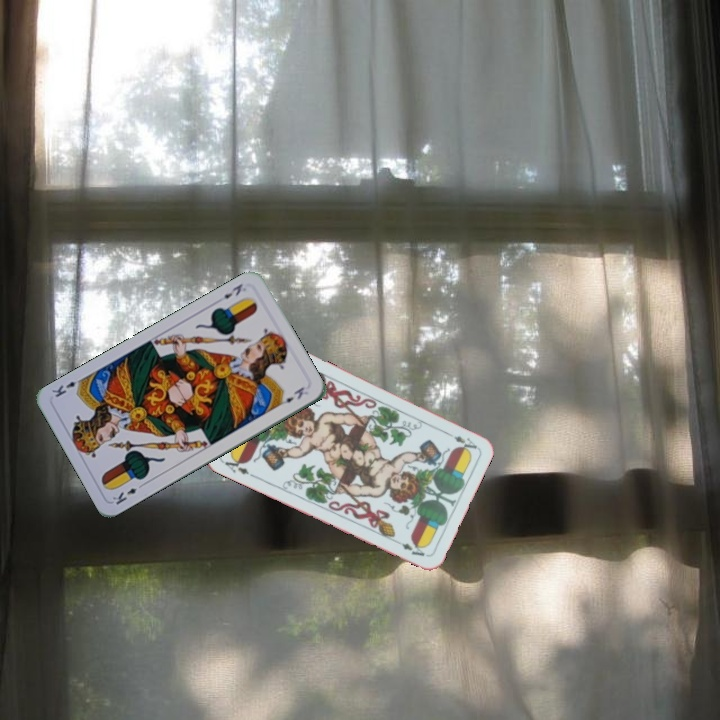EA: (221, 453, 258, 480), (450, 431, 480, 453)
EK: (108, 479, 147, 507), (219, 279, 245, 301)
